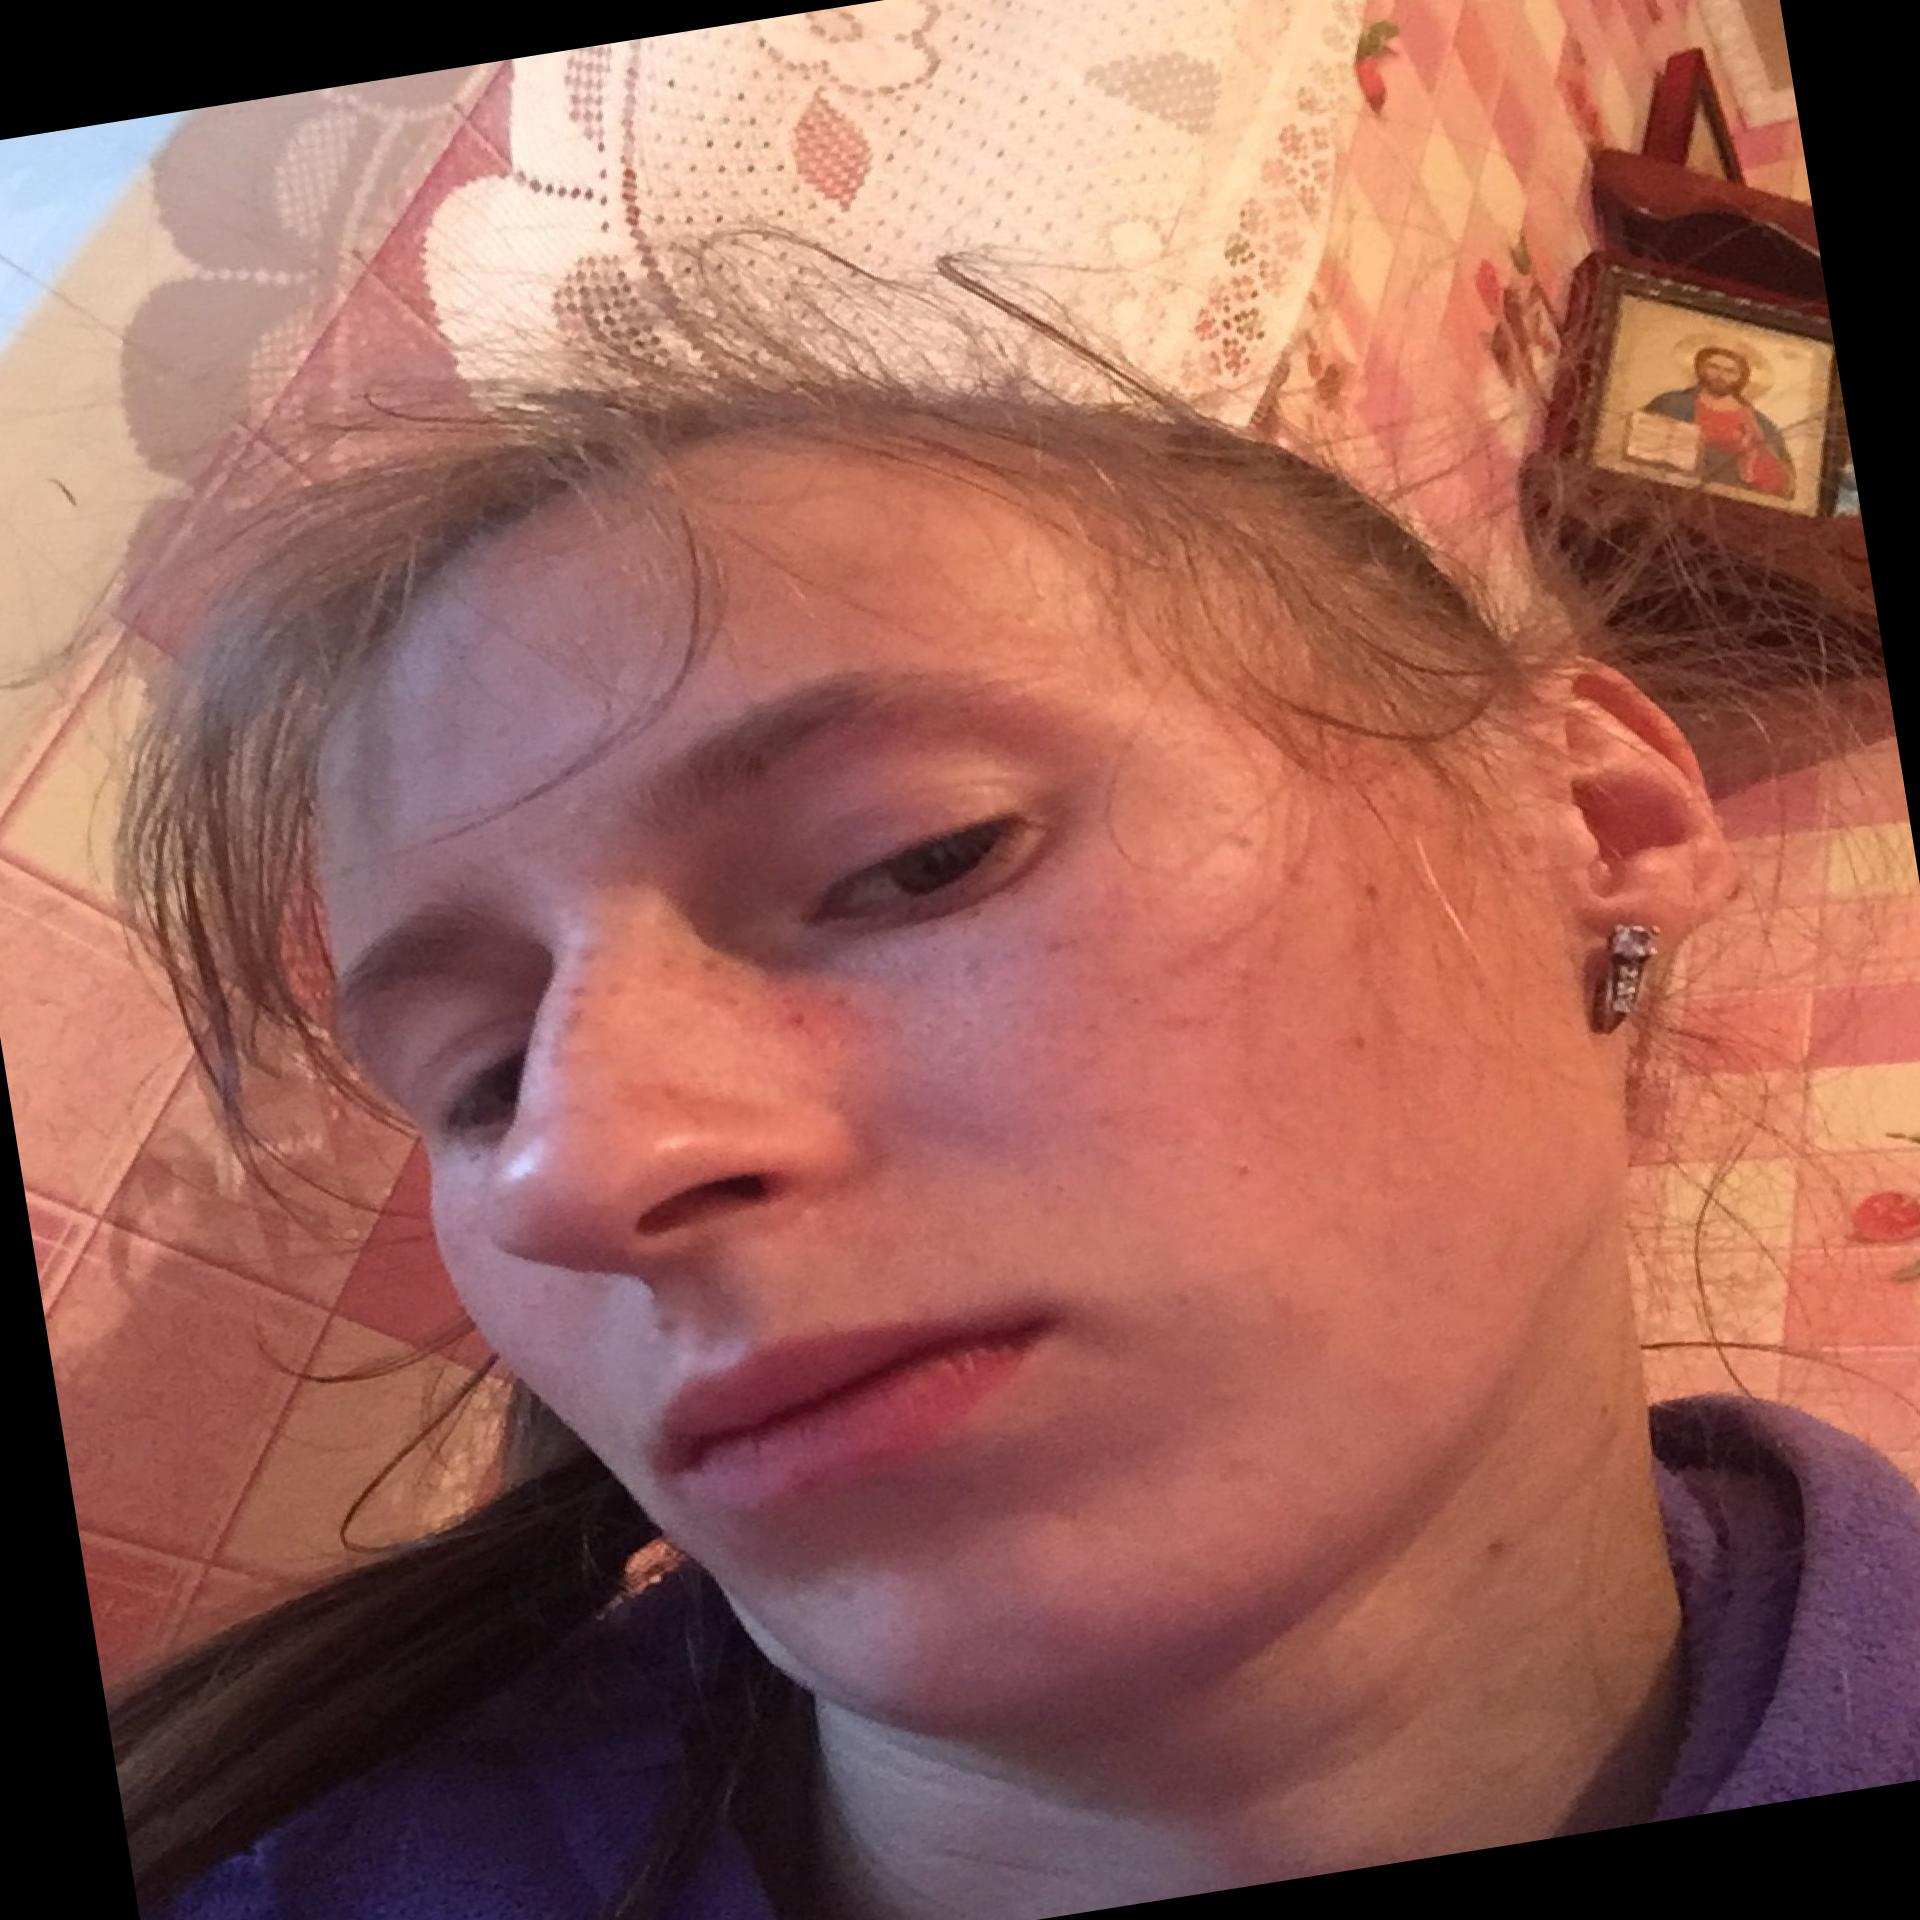Acne: (1345, 869, 1410, 932), (777, 992, 833, 1048), (1215, 1440, 1261, 1489), (1343, 1025, 1378, 1074)
